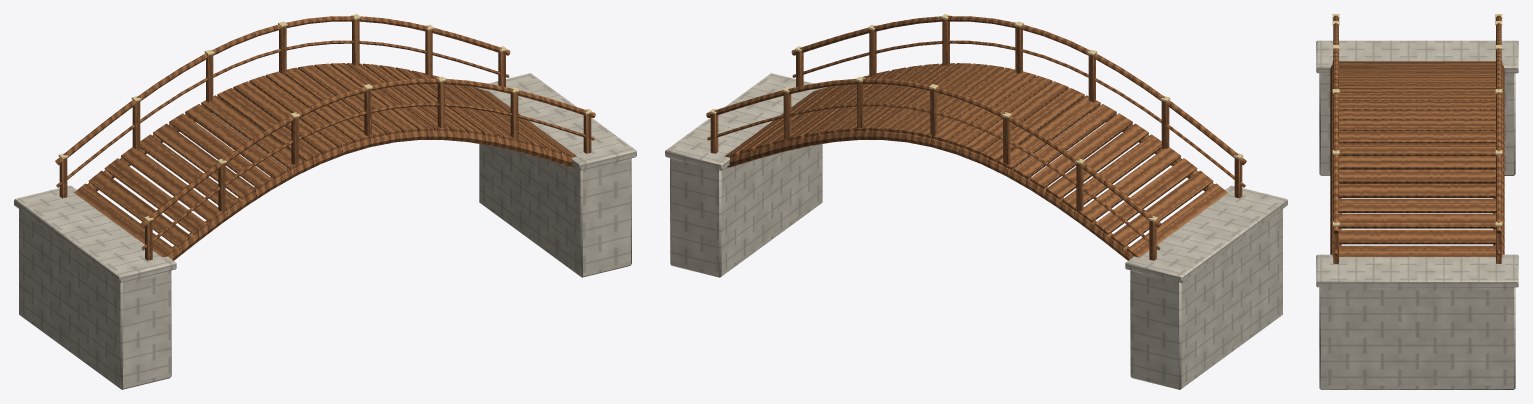
File: creek_bridge.glb
The picture shows the model from 3 angles, left to right: view 1: azimuth 30°, elevation 25°; view 2: azimuth 150°, elevation 25°; view 3: azimuth 270°, elevation 25°; orthographic projection. The views are drawn at different scales.
Parts seen in each view (by area): view 1: Bridge_CedarDeck, Bridge_Abutments, Bridge_BrassCaps; view 2: Bridge_CedarDeck, Bridge_Abutments, Bridge_BrassCaps; view 3: Bridge_CedarDeck, Bridge_Abutments, Bridge_BrassCaps.
Part boxes in pixels (bbox=[...]): Bridge_CedarDeck: bbox=[55, 16, 595, 260]; Bridge_Abutments: bbox=[14, 73, 636, 389]; Bridge_BrassCaps: bbox=[58, 14, 592, 221]; Bridge_CedarDeck: bbox=[706, 16, 1246, 260]; Bridge_Abutments: bbox=[665, 73, 1287, 389]; Bridge_BrassCaps: bbox=[709, 14, 1243, 221]; Bridge_CedarDeck: bbox=[1330, 15, 1504, 263]; Bridge_Abutments: bbox=[1316, 40, 1518, 389]; Bridge_BrassCaps: bbox=[1332, 14, 1502, 226].
Size of the model in its own units: 12.04 by 5.25 by 4.28.
Materials: 3 (2 with a texture image).
